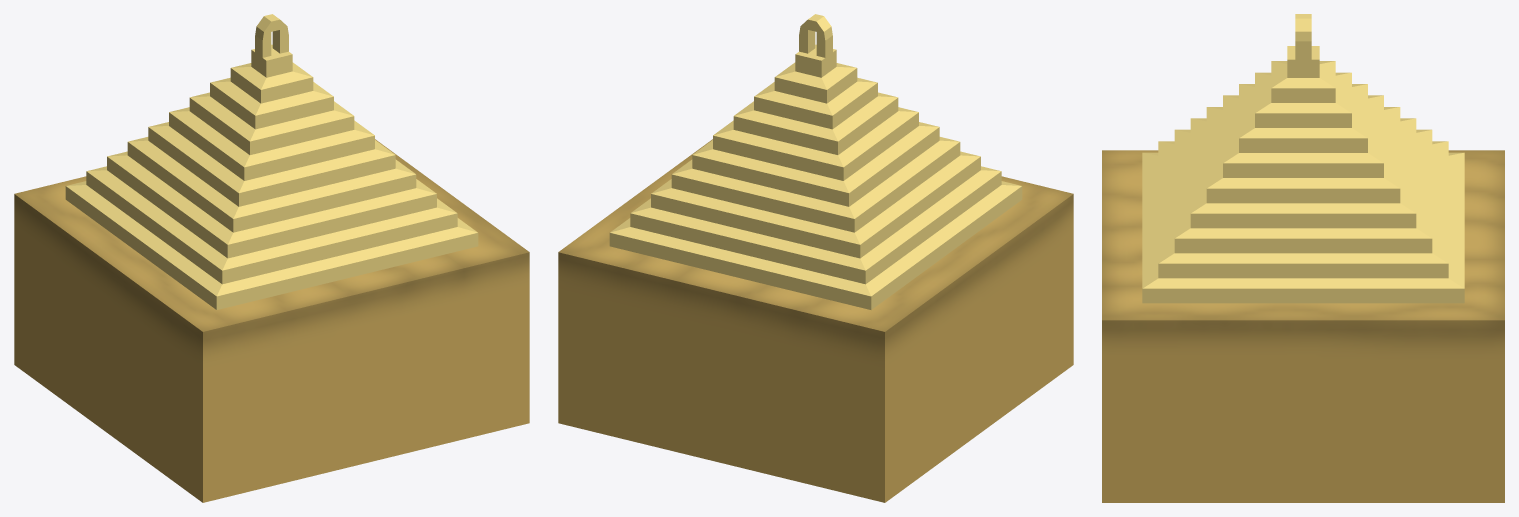
The model's file is Egypt_Decor_1.fbx.
3 renders of one model, left to right at view 1: azimuth 30°, elevation 25°; view 2: azimuth 150°, elevation 25°; view 3: azimuth 270°, elevation 25°, orthographic. The views are drawn at different scales.
Visible parts, largest first — view 1: Egypt_Decor_1; view 2: Egypt_Decor_1; view 3: Egypt_Decor_1.
Part boxes in pixels (bbox=[...]): Egypt_Decor_1: bbox=[14, 14, 529, 502]; Egypt_Decor_1: bbox=[558, 14, 1073, 502]; Egypt_Decor_1: bbox=[1102, 14, 1504, 502].
Bounding box in the file's own units: 200 × 220 × 200.
